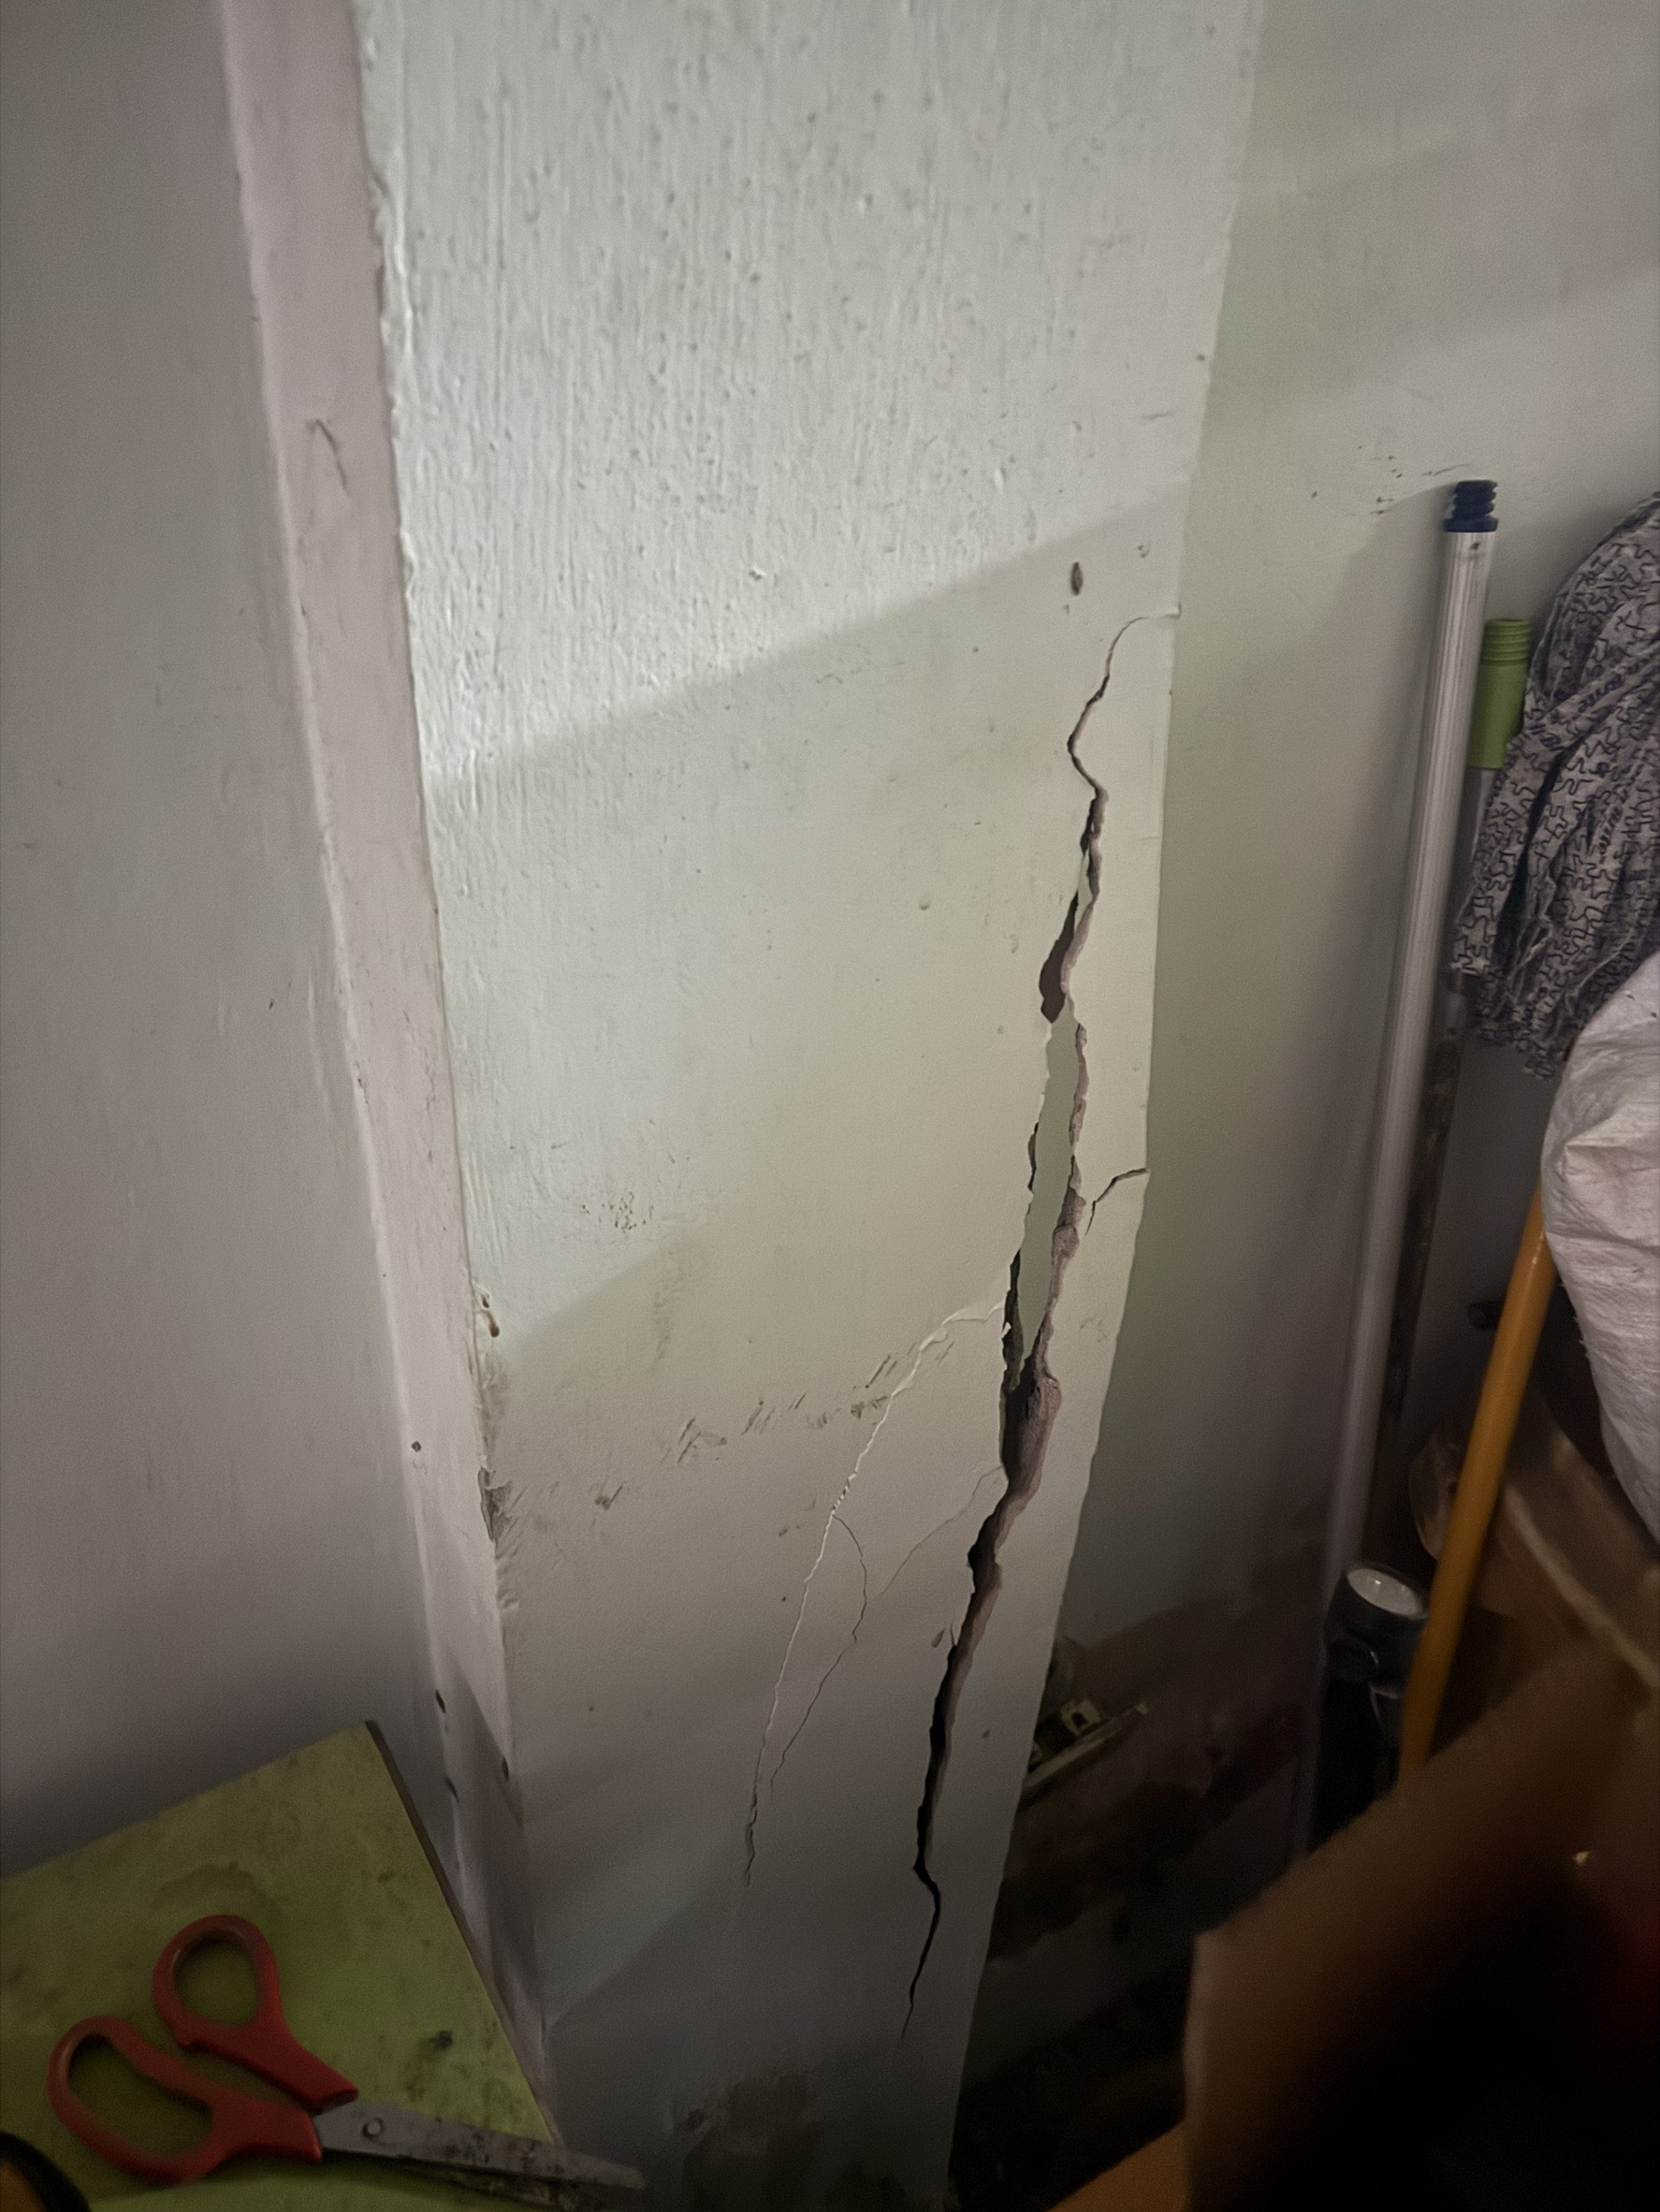High: (779, 605, 1177, 2099)
